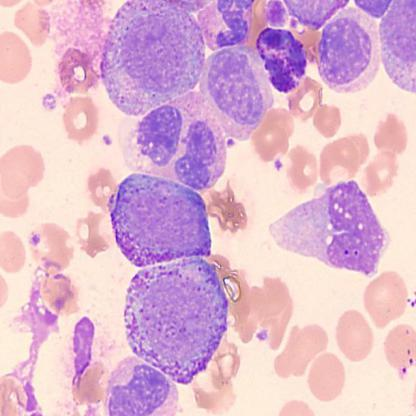Promyelocyte: (120, 258, 227, 388), (105, 175, 208, 275)
